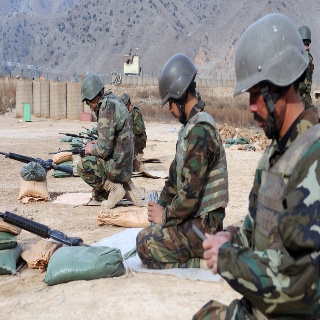rifle: (1, 207, 93, 250), (1, 148, 75, 179), (58, 129, 93, 142)
